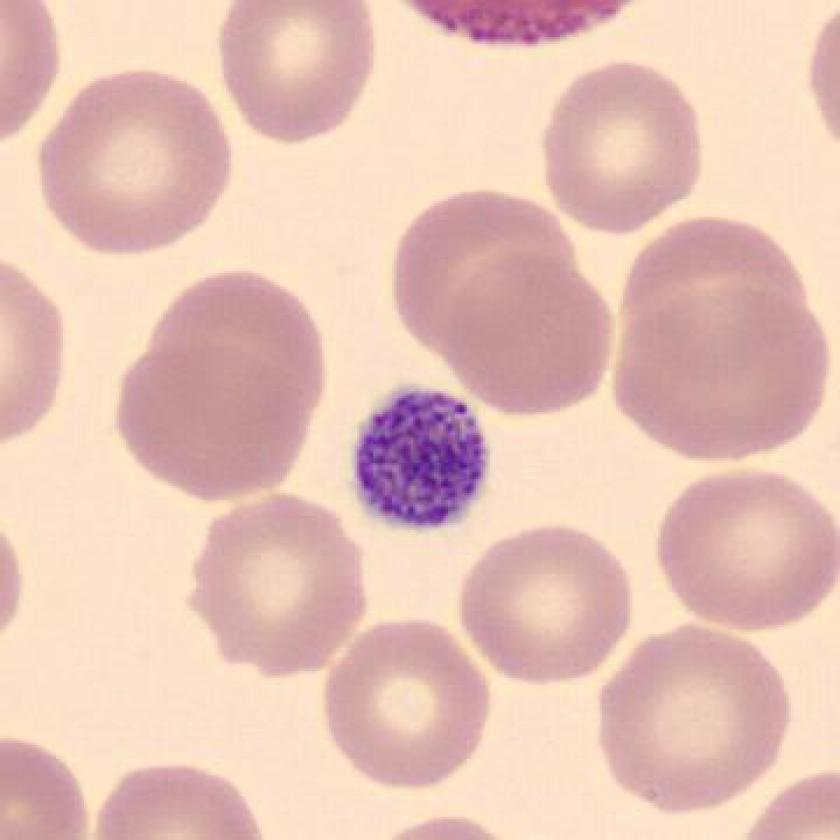platelets: (349, 383, 496, 533)
